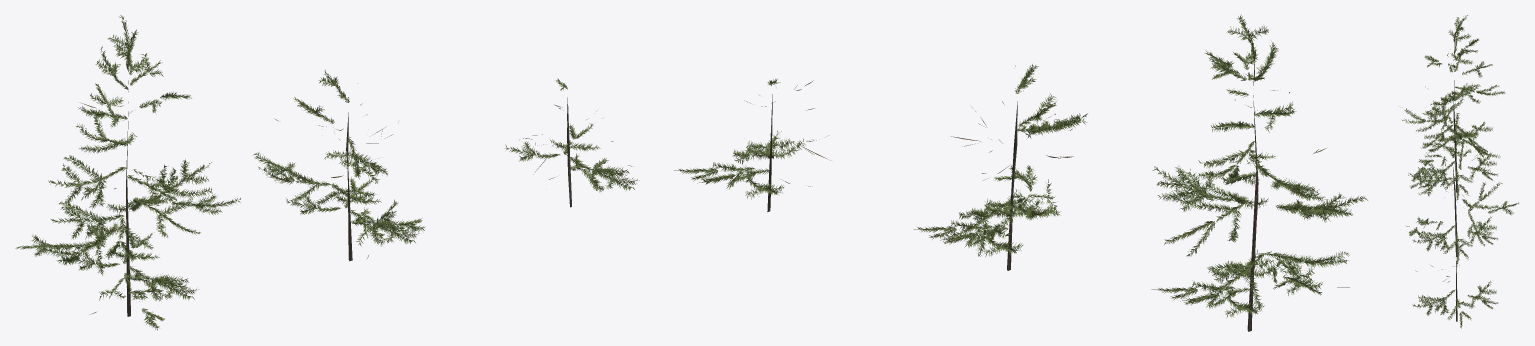
Rendered from fir_sapling.glb.
The picture shows the model from 3 angles, left to right: view 1: azimuth 30°, elevation 25°; view 2: azimuth 150°, elevation 25°; view 3: azimuth 270°, elevation 25°; orthographic projection. The views are drawn at different scales.
Visible parts, largest first — view 1: fir_sapling_a; view 2: fir_sapling_a; view 3: fir_sapling_a.
Part boxes in pixels (box(x1,y1,x2,y2)): fir_sapling_a: box(15, 15, 639, 330); fir_sapling_a: box(674, 14, 1367, 331); fir_sapling_a: box(1402, 15, 1519, 328).
Bounding box in the file's own units: 2.71 × 1.28 × 0.8044.
Materials: 2 (2 with a texture image).
